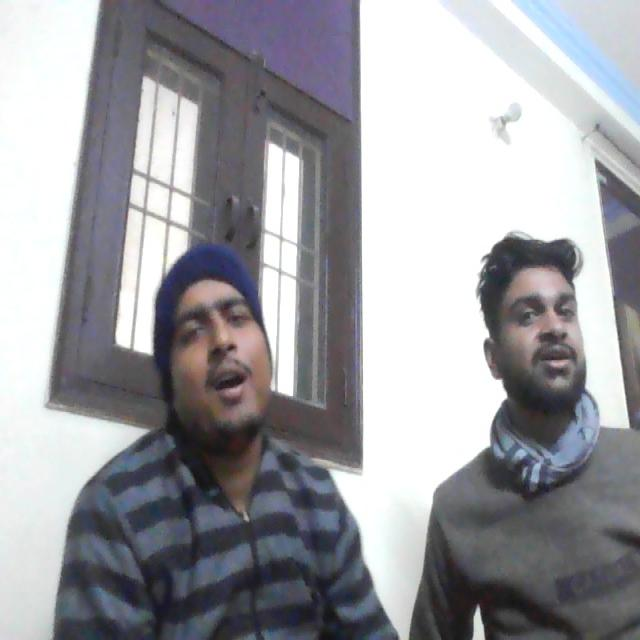real: (151, 209, 277, 447), (491, 215, 590, 402)
